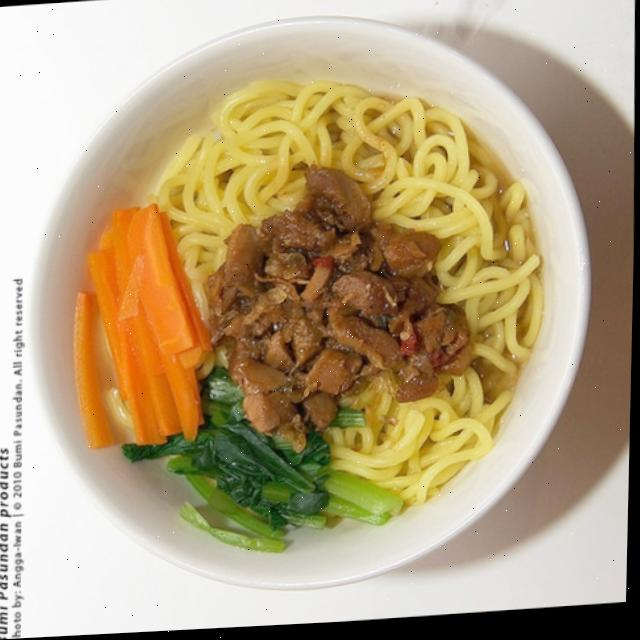面条主食: (12, 0, 595, 623)
